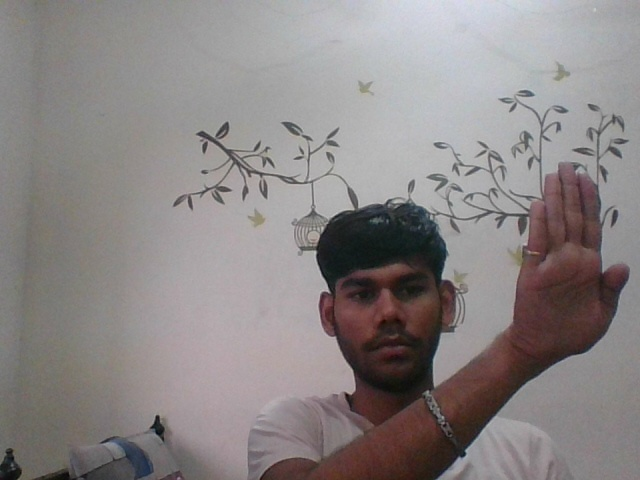Hello: (501, 168, 633, 367)
